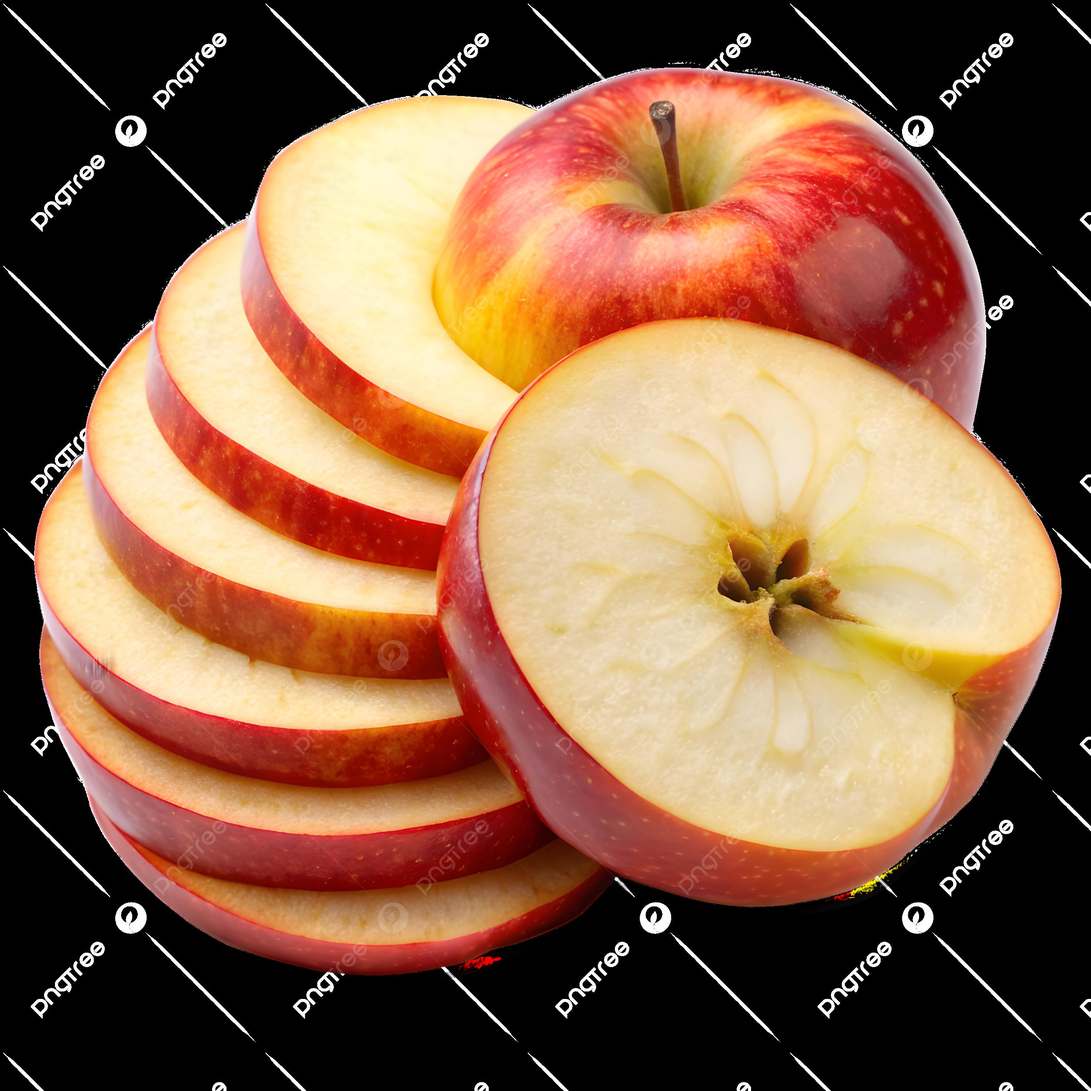apples: (55, 80, 1054, 1026)
